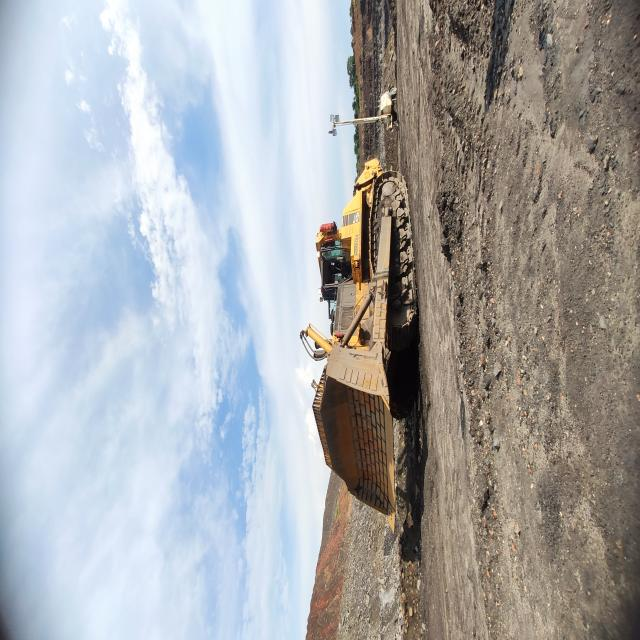buldozerpayloadergrader: (78, 533, 262, 640)
